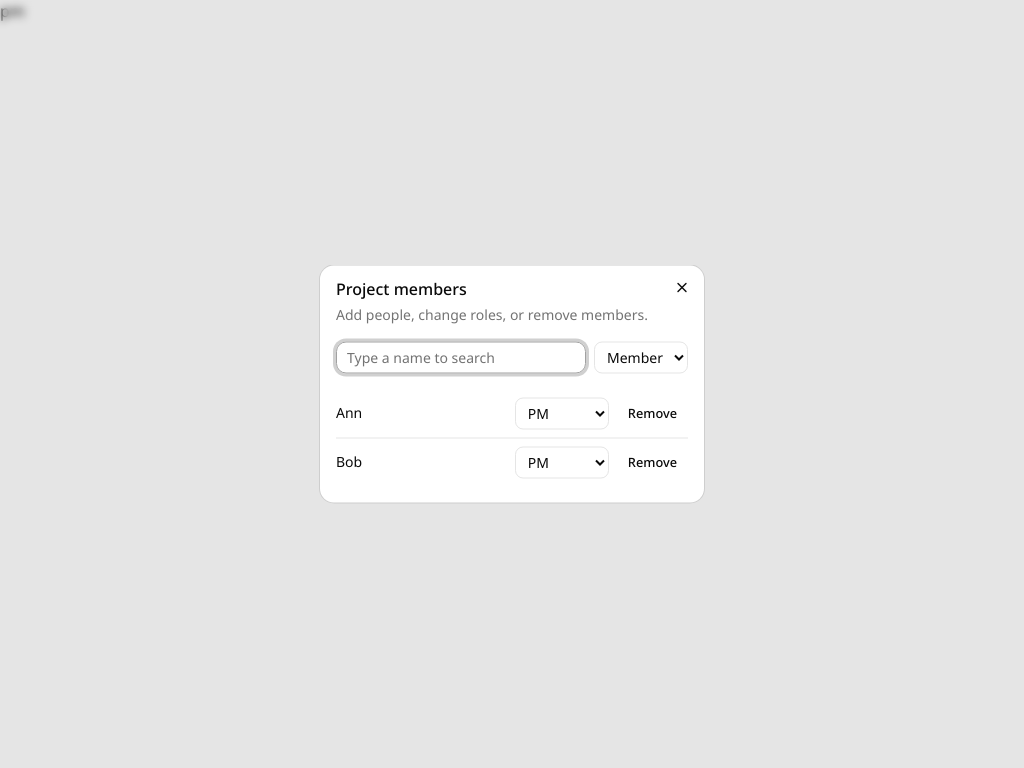
it: MembersDialog self role change › a non-admin PM demoting themselves loses board.myRole at once
Expected: the text with test id "role" reads "pm", [0,0,25,24]
Select "Member" in the dropdown named "Role of Ann" at (562, 414), box [515,398,609,430]
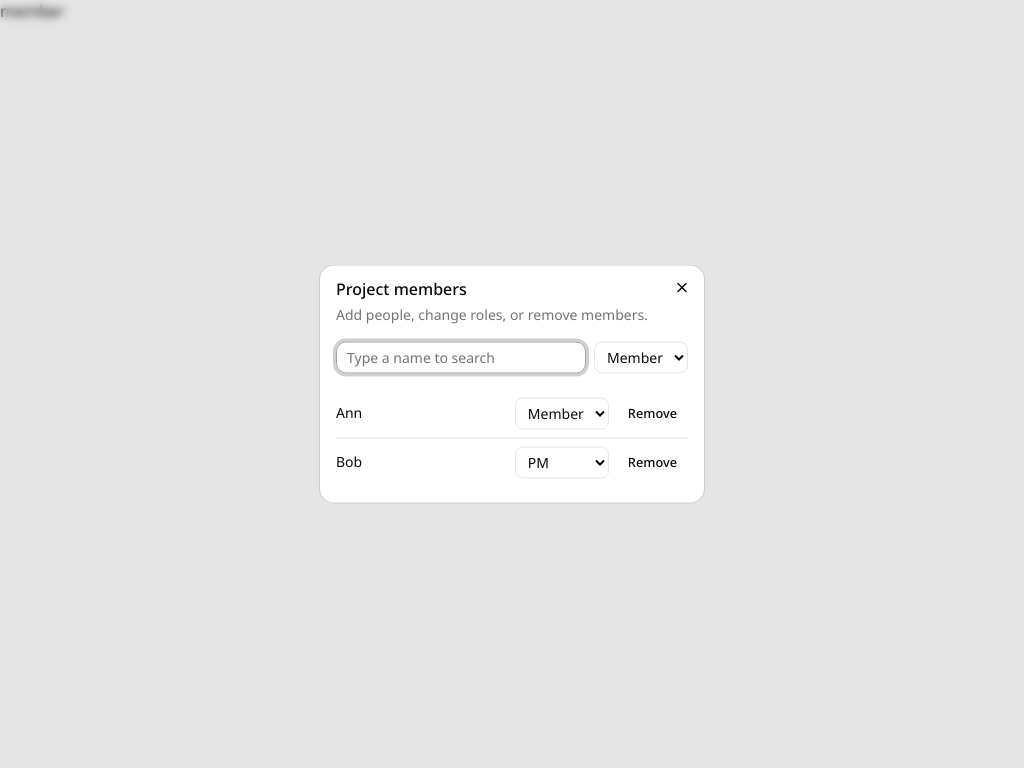
Expected: the text with test id "role" reads "member", [0,0,64,24]
